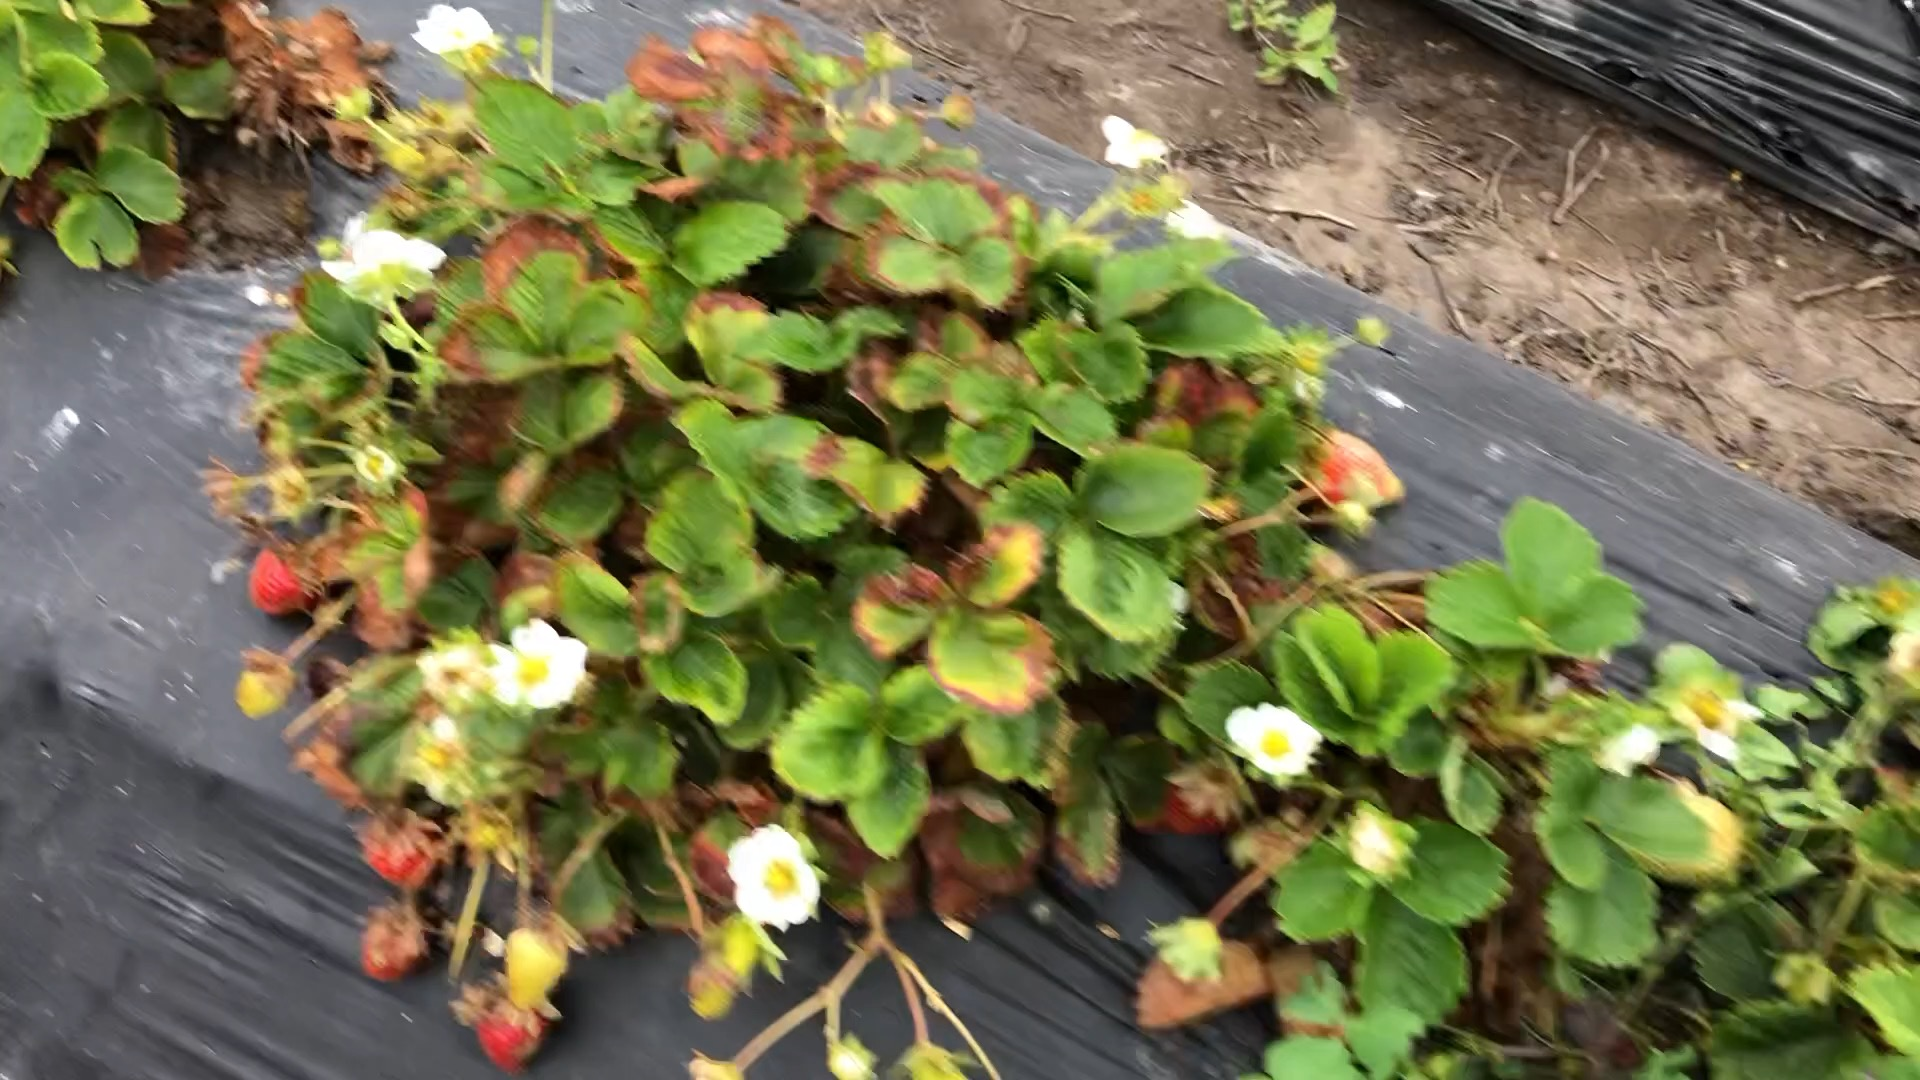ripe_strawberry: (249, 535, 320, 622), (367, 815, 446, 893), (476, 1001, 549, 1080), (361, 919, 429, 986), (1164, 767, 1230, 836)
unripe_strawberry: (1300, 429, 1412, 512), (504, 927, 568, 1019), (233, 661, 294, 724), (715, 915, 767, 978)
